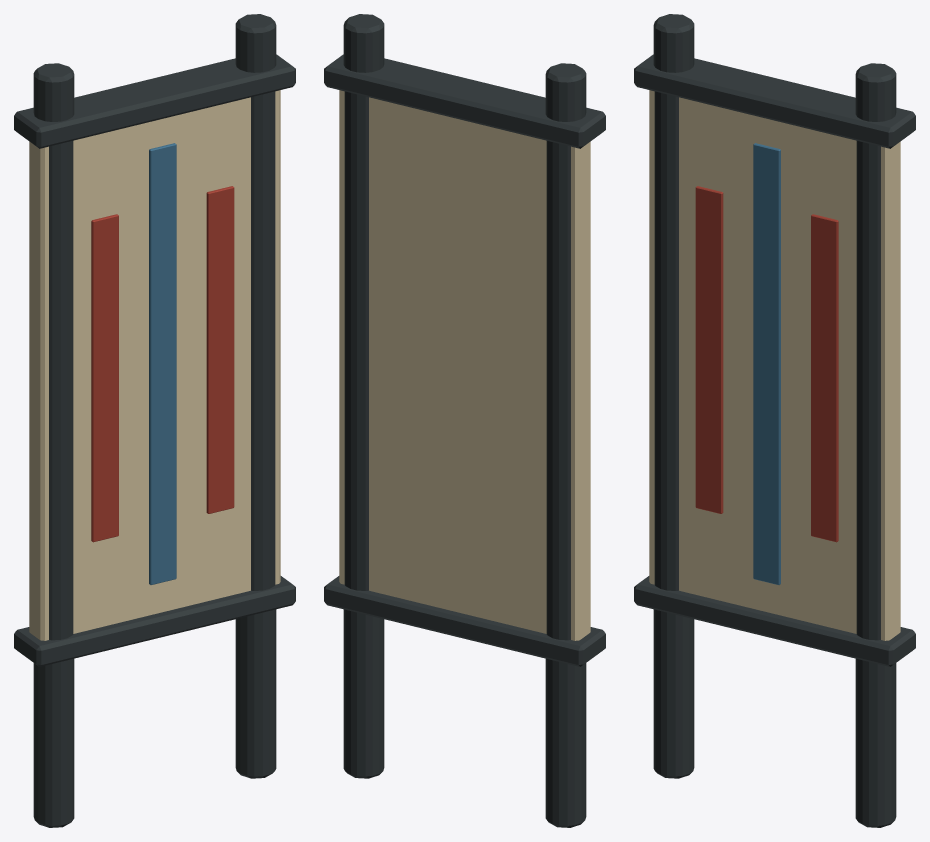
Rendered from runtime.glb.
The picture shows the model from 3 angles, left to right: view 1: azimuth 30°, elevation 25°; view 2: azimuth 150°, elevation 25°; view 3: azimuth 330°, elevation 25°; orthographic projection.
Parts seen in each view (by area): view 1: eiffel-historic-information-v06_nocol; view 2: eiffel-historic-information-v06_nocol; view 3: eiffel-historic-information-v06_nocol.
Part boxes in pixels (box(x1,y1,x2,y2)): eiffel-historic-information-v06_nocol: box(14, 14, 295, 827); eiffel-historic-information-v06_nocol: box(324, 14, 605, 827); eiffel-historic-information-v06_nocol: box(634, 14, 915, 827).
Bounding box in the file's own units: 1.04 × 2.86 × 0.18.
